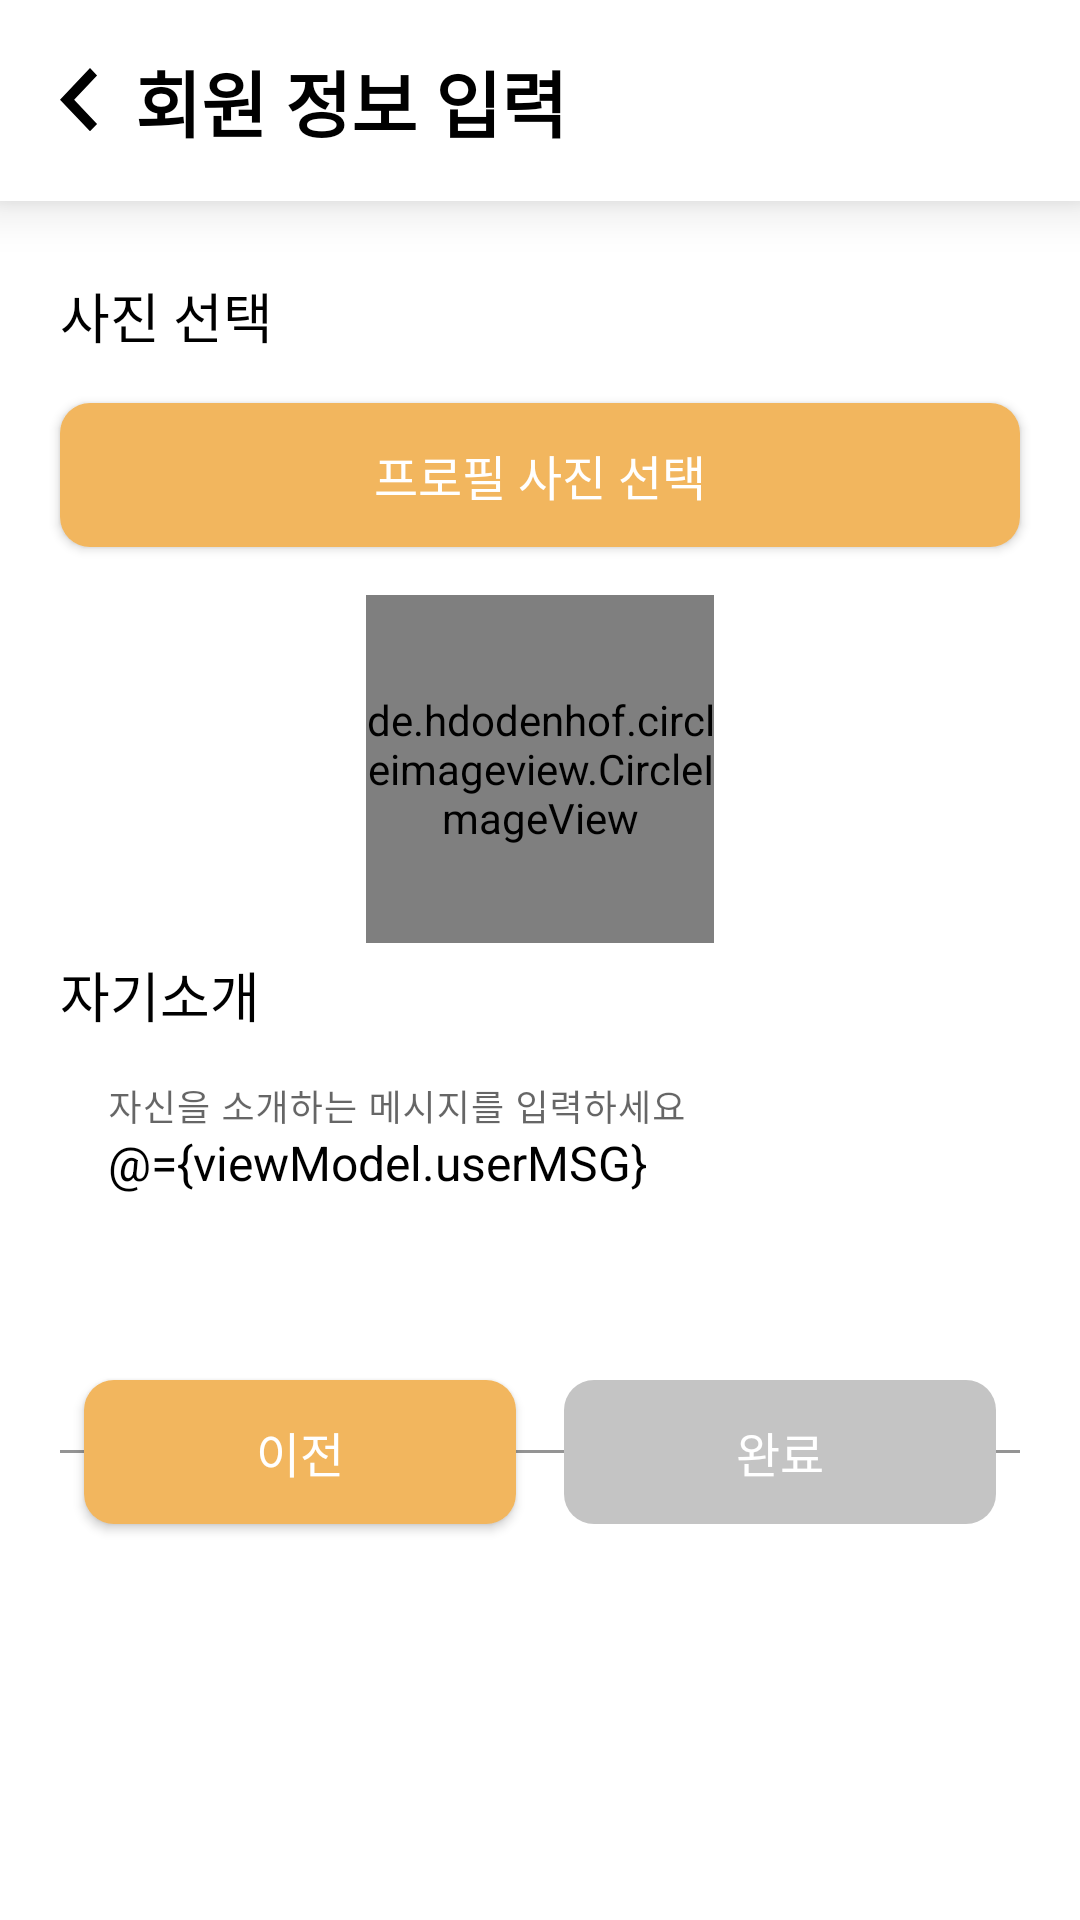

Locate icon controls on the screen. Image size 1080*1920, boxes as (x1, y1, x2, y2).
arrow left: (60, 68, 97, 131)
